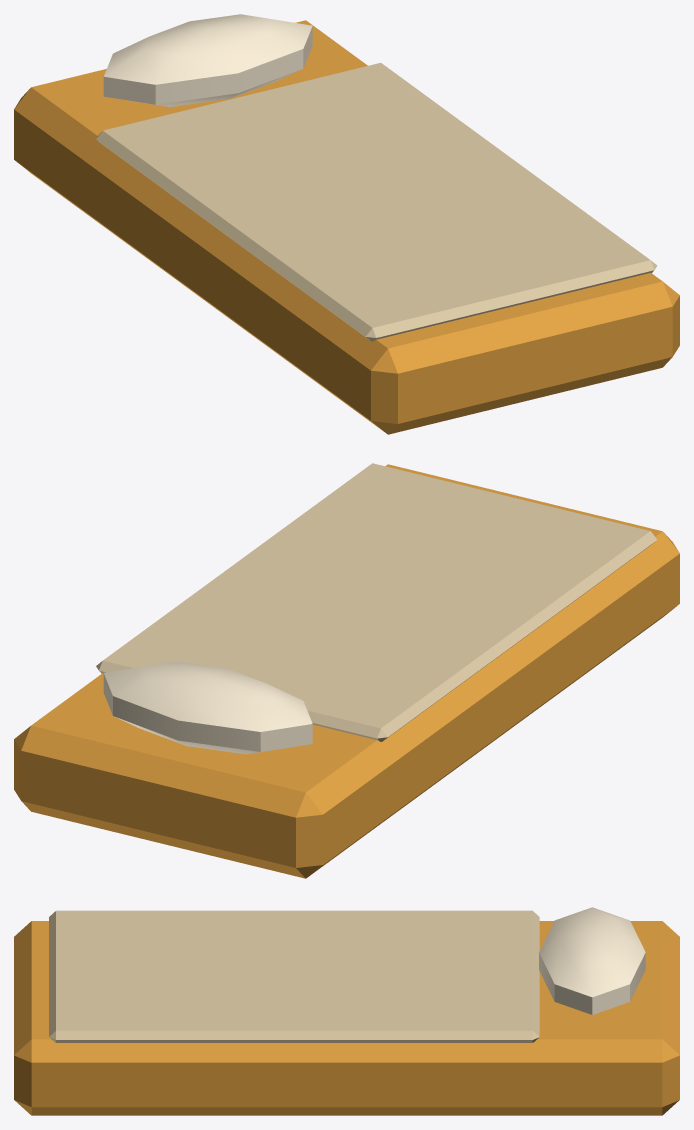
Rendered from PR_Furniture_Yatak_T1.fbx.
3 views of the same model, one above another, from view 1: azimuth 30°, elevation 25°; view 2: azimuth 150°, elevation 25°; view 3: azimuth 270°, elevation 25° (orthographic). The views are drawn at different scales.
Parts seen in each view (by area): view 1: PR_Furniture_Yatak_T1; view 2: PR_Furniture_Yatak_T1; view 3: PR_Furniture_Yatak_T1.
Part boxes in pixels (box(x1,y1,x2,y2)): PR_Furniture_Yatak_T1: box(14, 14, 679, 434); PR_Furniture_Yatak_T1: box(14, 463, 679, 878); PR_Furniture_Yatak_T1: box(14, 907, 679, 1115).
Bounding box in the file's own units: 0.9 × 0.39 × 1.9.
1 material, 1 textured.
